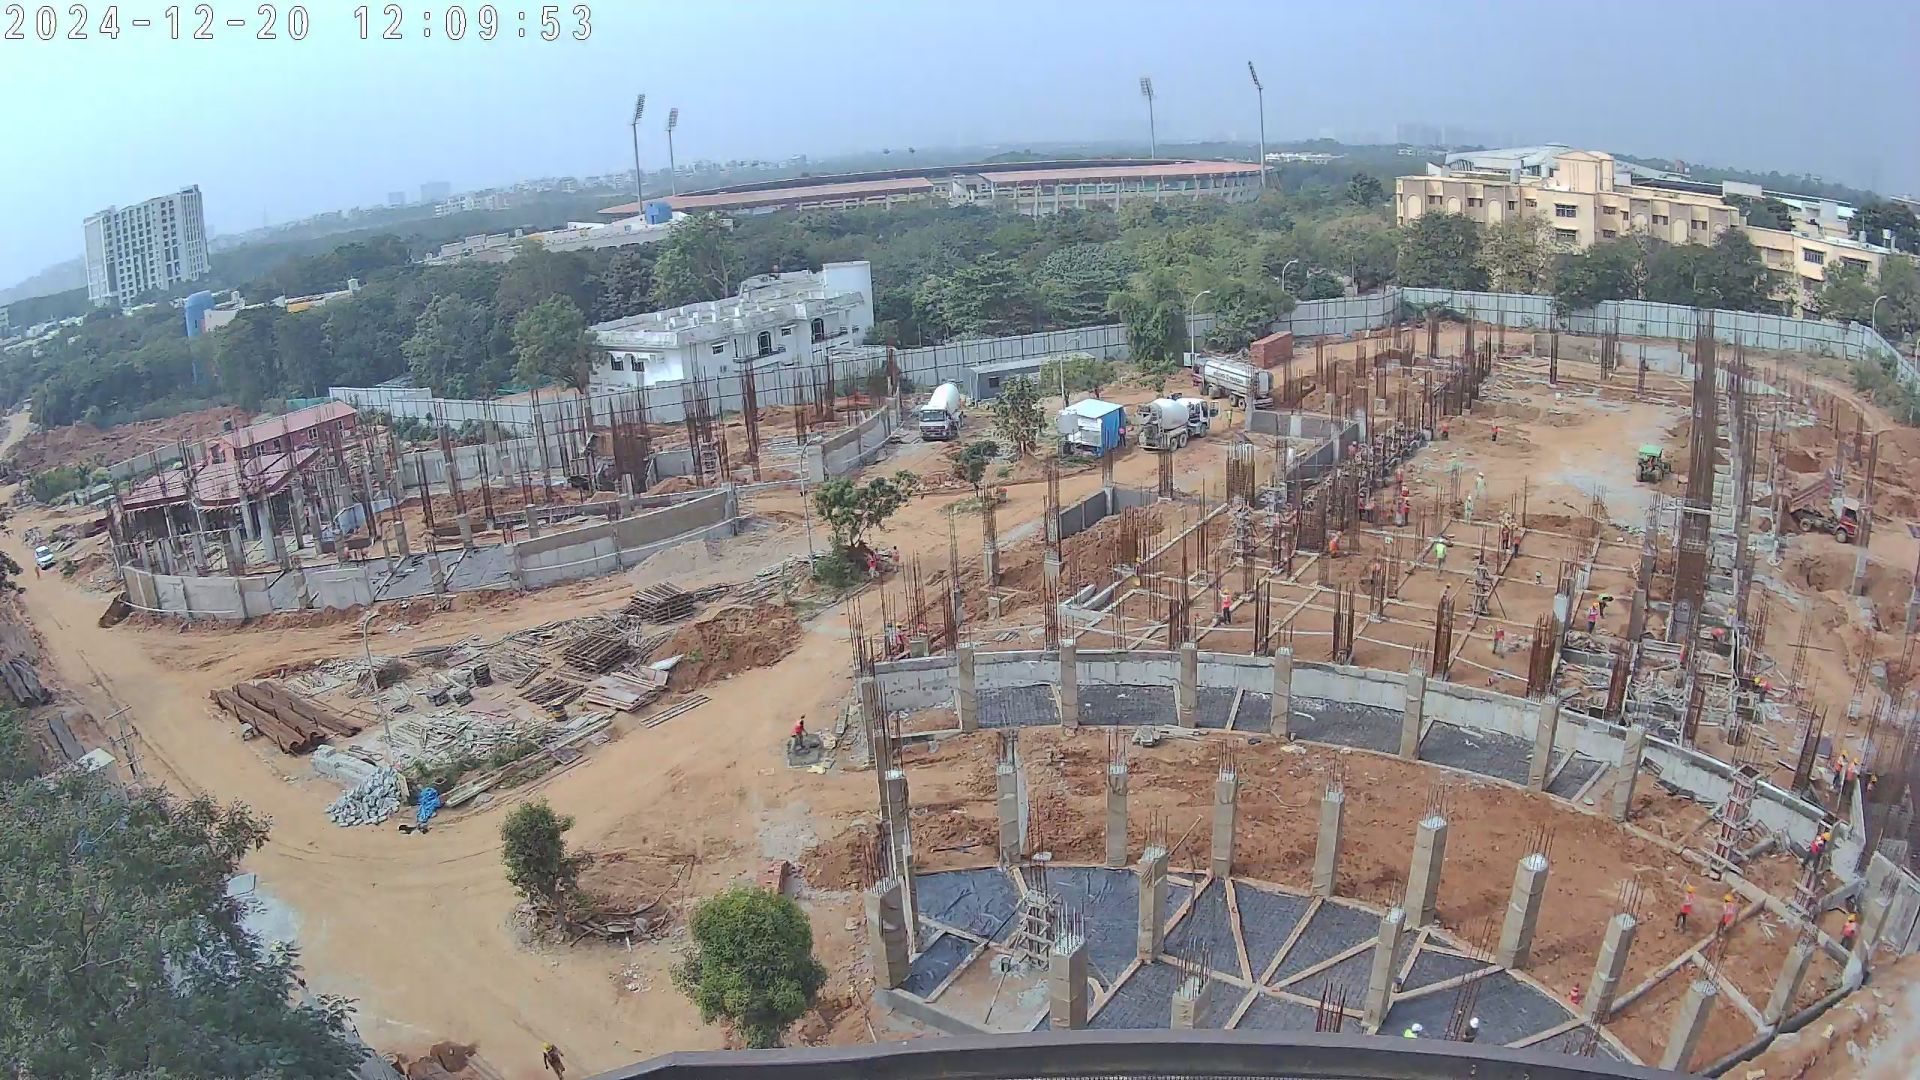bulldozer: (1634, 441, 1674, 493)
car: (30, 544, 51, 571)
truck: (1134, 396, 1214, 454), (1784, 491, 1864, 546), (917, 380, 961, 443)
worker: (1797, 828, 1830, 881), (1824, 748, 1853, 803), (538, 1037, 574, 1080), (1839, 911, 1860, 961), (1714, 893, 1733, 947), (1430, 536, 1450, 587), (1676, 884, 1697, 930), (1217, 591, 1236, 633), (787, 713, 804, 753), (1752, 671, 1772, 704), (1473, 471, 1491, 507), (1131, 557, 1150, 591), (35, 543, 58, 569), (894, 619, 908, 656), (1327, 529, 1344, 558), (1584, 601, 1599, 633), (1597, 592, 1616, 617), (1493, 621, 1506, 656), (1710, 624, 1729, 646), (1401, 498, 1411, 531), (1354, 491, 1365, 521), (890, 546, 902, 572), (1464, 495, 1474, 526), (1117, 423, 1129, 448), (1512, 532, 1523, 559), (866, 554, 877, 580), (1347, 438, 1358, 463), (1500, 521, 1510, 547), (1440, 418, 1451, 440), (1531, 567, 1543, 586), (1398, 484, 1413, 498), (1489, 422, 1499, 443), (1226, 406, 1233, 429)
